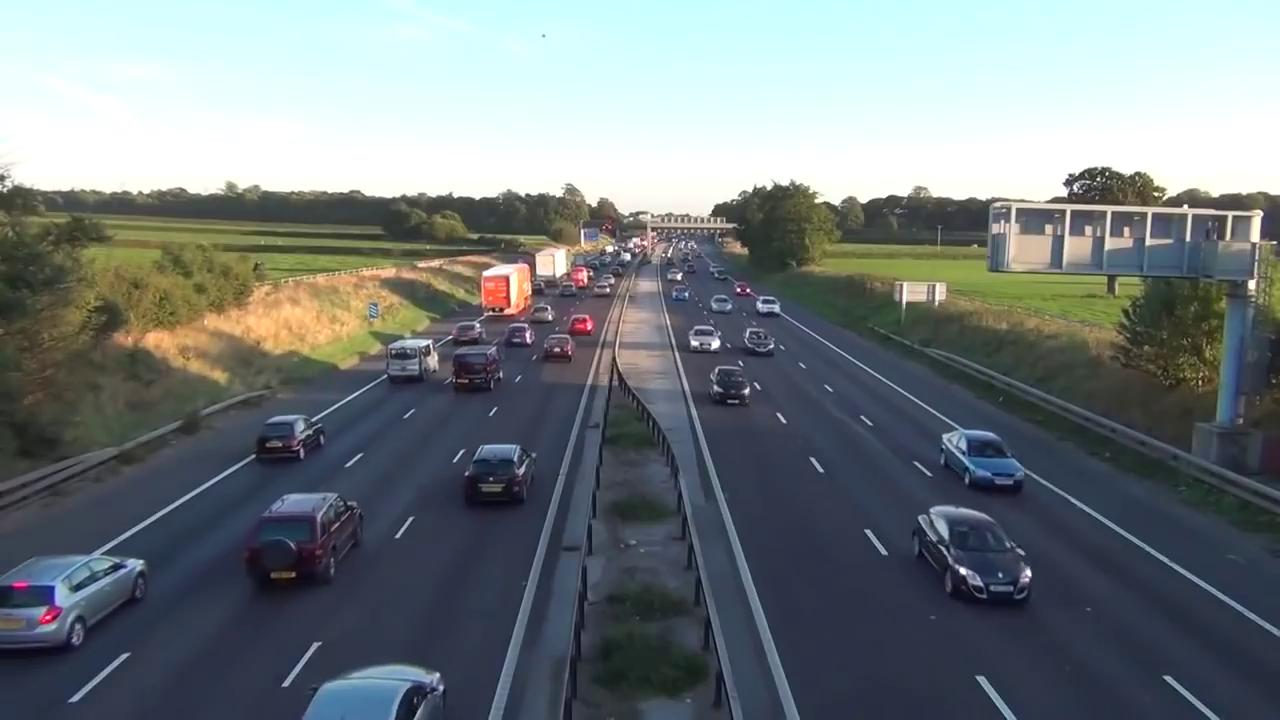bus: (385, 336, 431, 381)
car: (2, 548, 149, 657), (913, 502, 1035, 609), (247, 484, 368, 587), (301, 664, 453, 720), (941, 429, 1027, 500), (460, 442, 539, 501), (255, 414, 324, 452), (451, 345, 504, 389), (711, 368, 755, 404), (540, 334, 575, 362), (686, 326, 719, 351), (450, 323, 487, 344), (743, 327, 773, 351), (568, 316, 597, 337), (506, 324, 535, 343), (754, 297, 780, 315), (530, 305, 557, 321), (712, 296, 734, 314), (671, 283, 690, 302), (736, 285, 752, 298)
truck: (476, 264, 531, 316)
